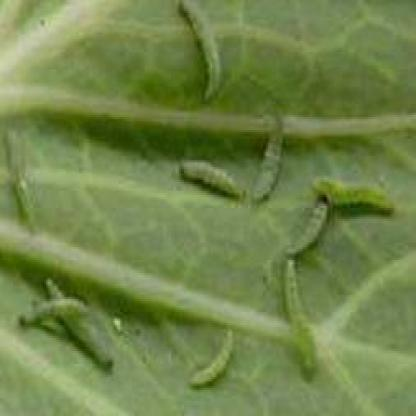armyworm: (39, 272, 118, 376), (279, 262, 322, 383), (176, 0, 226, 103), (312, 170, 402, 217), (282, 194, 336, 262), (250, 113, 287, 207), (176, 155, 248, 203), (7, 154, 41, 244), (17, 292, 92, 332), (194, 328, 238, 393)
